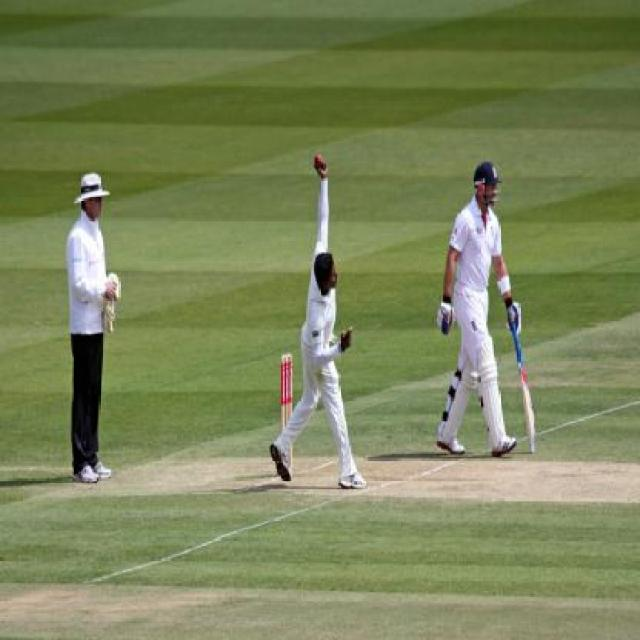Cricket ball: (310, 147, 329, 171)
